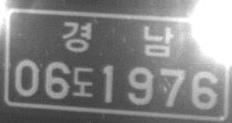0: (13, 57, 40, 98)
1: (96, 64, 120, 103)
6: (189, 69, 219, 111), (44, 59, 72, 101)
7: (158, 66, 187, 108)
9: (125, 65, 154, 107)
경남_D: (59, 19, 174, 57)
도: (72, 65, 95, 99)
